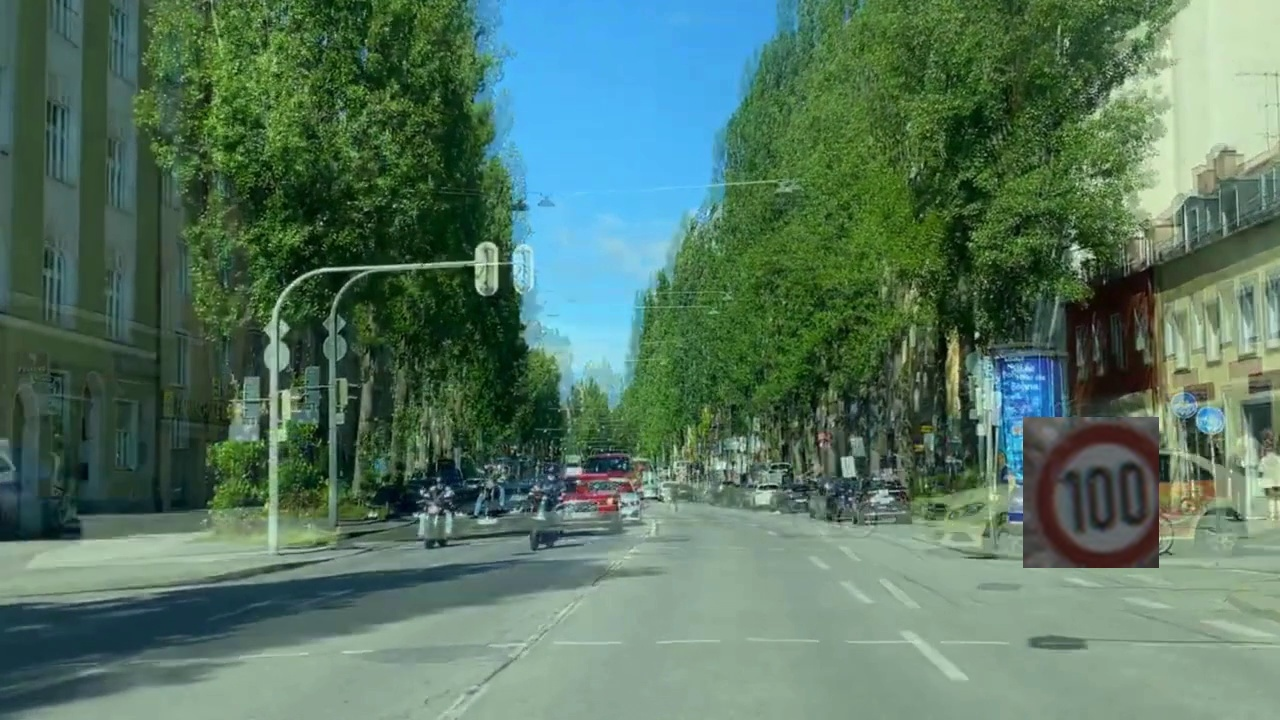Speed 100: (1023, 417, 1159, 568)
